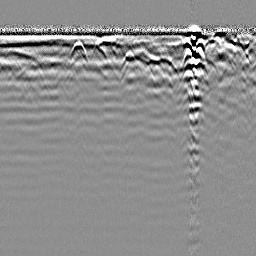cavity: (120, 46, 135, 72)
